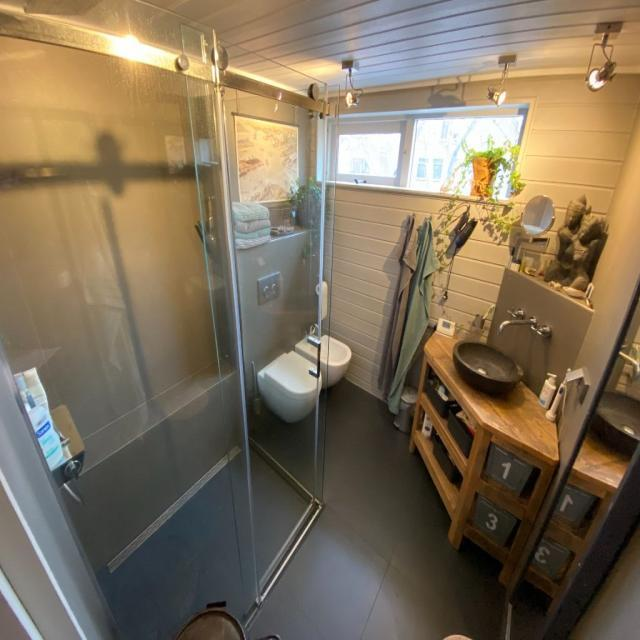douche: (0, 0, 341, 640)
toilet: (254, 270, 324, 426), (294, 318, 353, 390)
wastafel: (408, 324, 560, 589), (454, 303, 554, 403)
